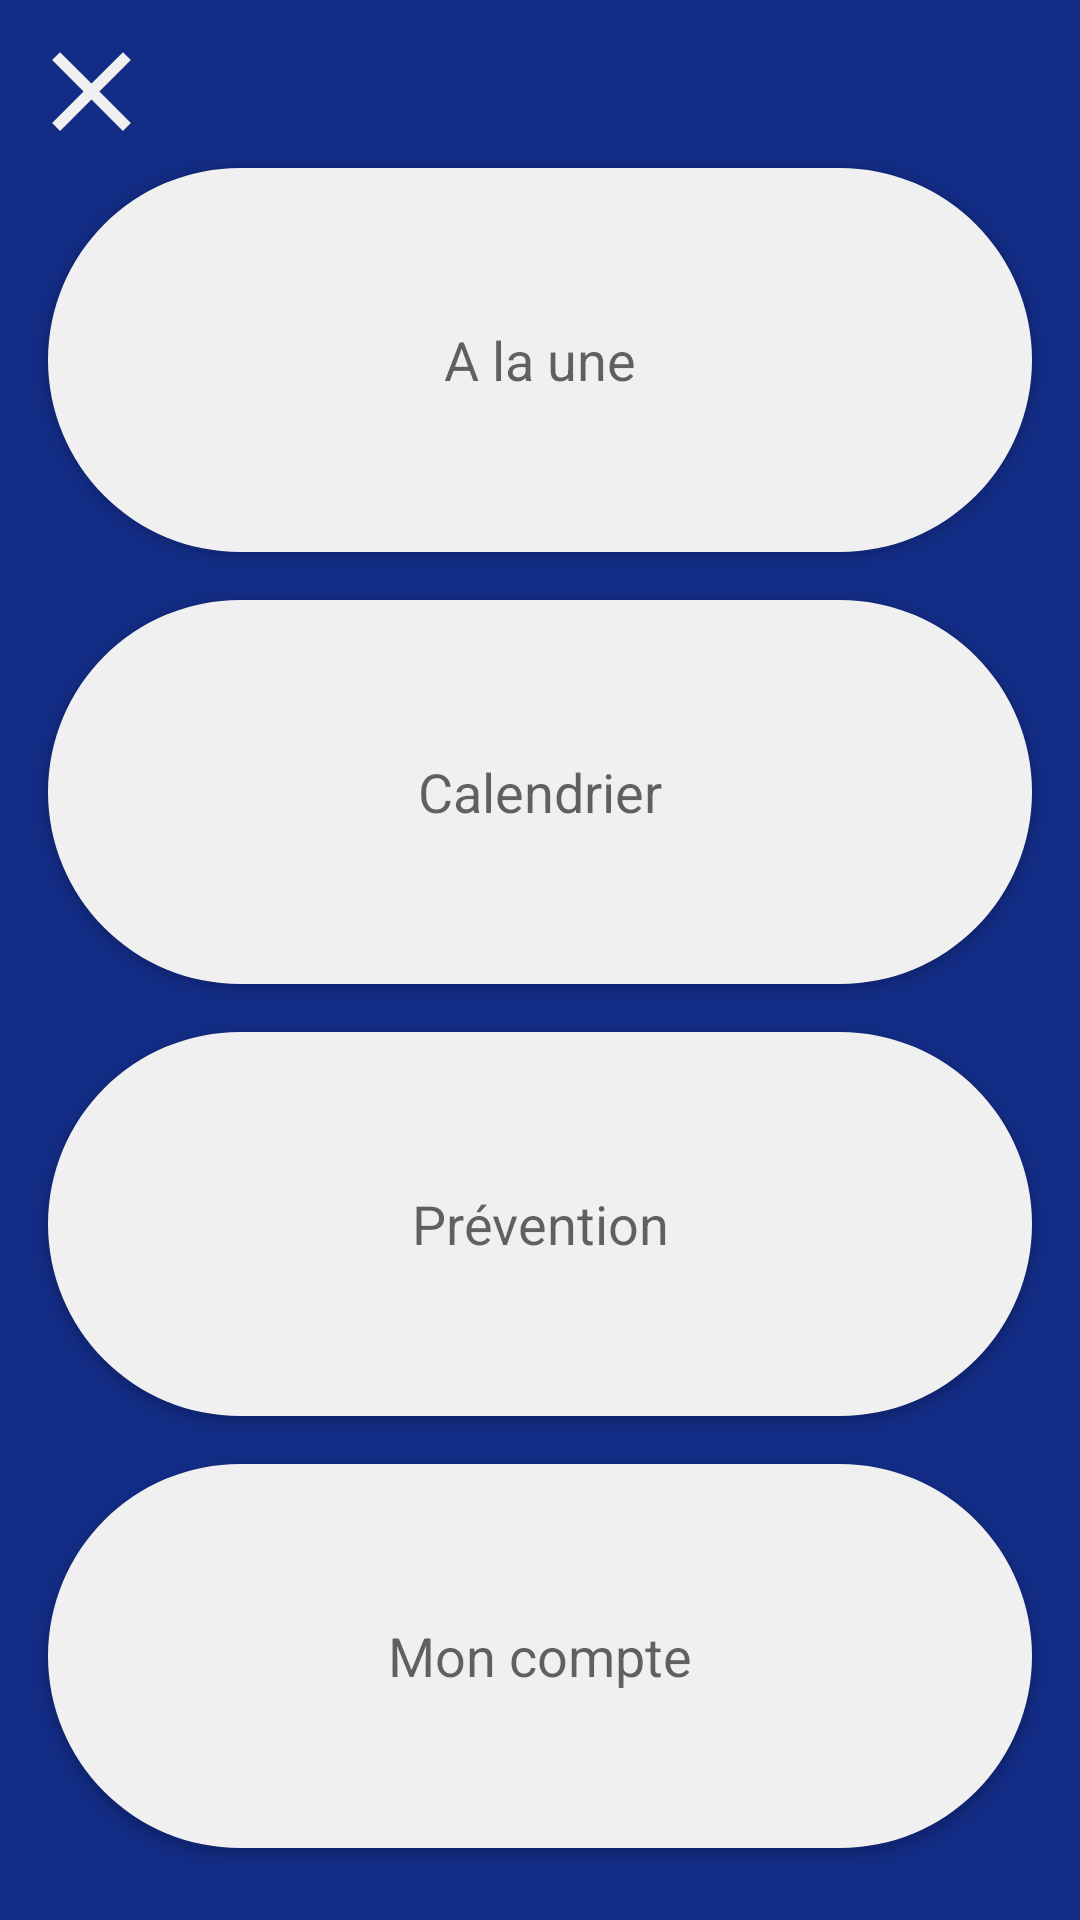

Where icons sit on this 1080×1920 app screen, as (x1, y1, x2, y2):
cross: (52, 52, 131, 131)
